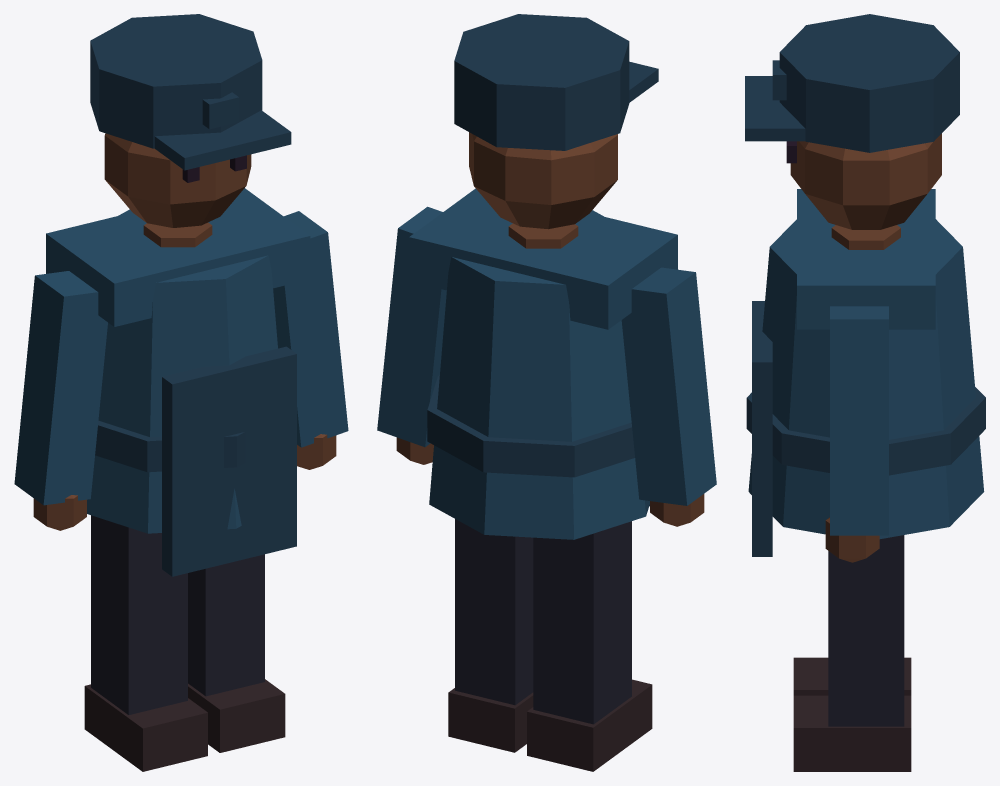
Rendered from person_bram.gltf.
3 views of the same model, side by side, from view 1: azimuth 30°, elevation 25°; view 2: azimuth 150°, elevation 25°; view 3: azimuth 270°, elevation 25° (orthographic).
Visible parts, largest first — view 1: body, face; view 2: body, face; view 3: body, face.
Part boxes in pixels (x1,y1,x2,y2): body: [14, 188, 348, 771]; face: [90, 14, 291, 227]; body: [377, 188, 716, 771]; face: [454, 14, 658, 229]; body: [746, 189, 985, 771]; face: [745, 14, 959, 229].
Size of the model in its own units: 1.03 by 2.18 by 0.695.
